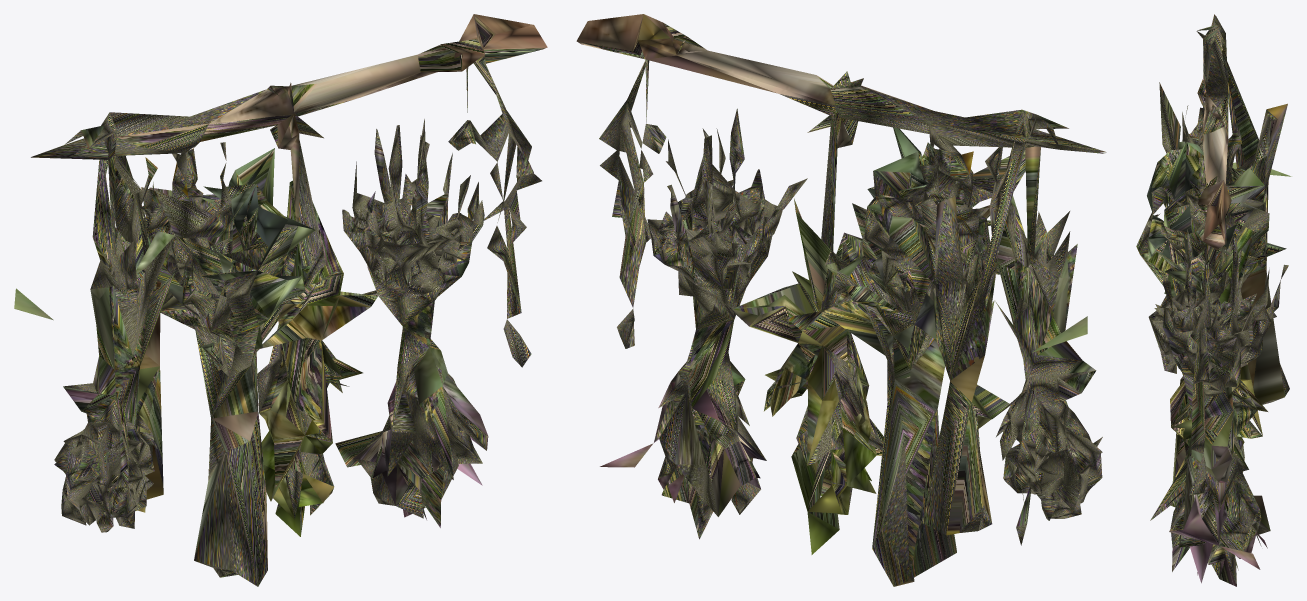
Rendered from Herbal_Harvest.glb.
3 renders of one model, left to right at view 1: azimuth 30°, elevation 25°; view 2: azimuth 150°, elevation 25°; view 3: azimuth 270°, elevation 25°, orthographic. The views are drawn at different scales.
Parts seen in each view (by area): view 1: Herbal_Harvest; view 2: Herbal_Harvest; view 3: Herbal_Harvest.
Part boxes in pixels (<box>): Herbal_Harvest: <box>14,14,547,586</box>; Herbal_Harvest: <box>576,14,1106,586</box>; Herbal_Harvest: <box>1136,14,1291,586</box>.
Bounding box in the file's own units: 1.87 × 1.73 × 0.5629.
1 material, 1 textured.
